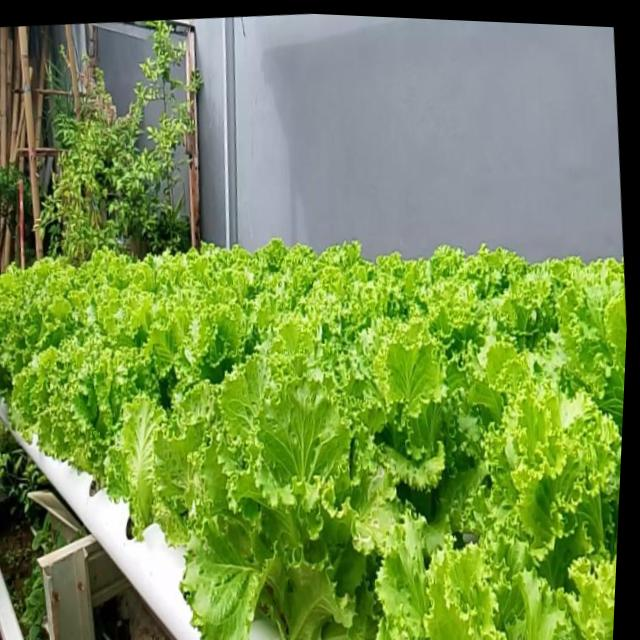Mature: (0, 219, 626, 640), (159, 340, 352, 637), (0, 280, 132, 492)
